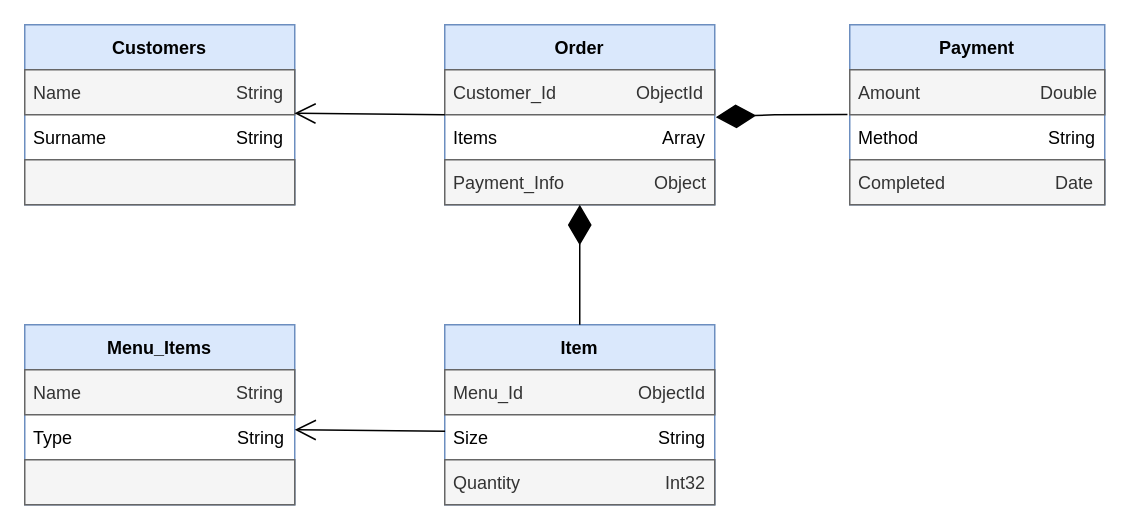
The diagram is 1130 pixels wide and 530 high, and some of its shapes have lost their labels. Each missing label, with the centre of its shape:
"Address String" belongs at [159,181].
"Price Double" belongs at [159,481].
